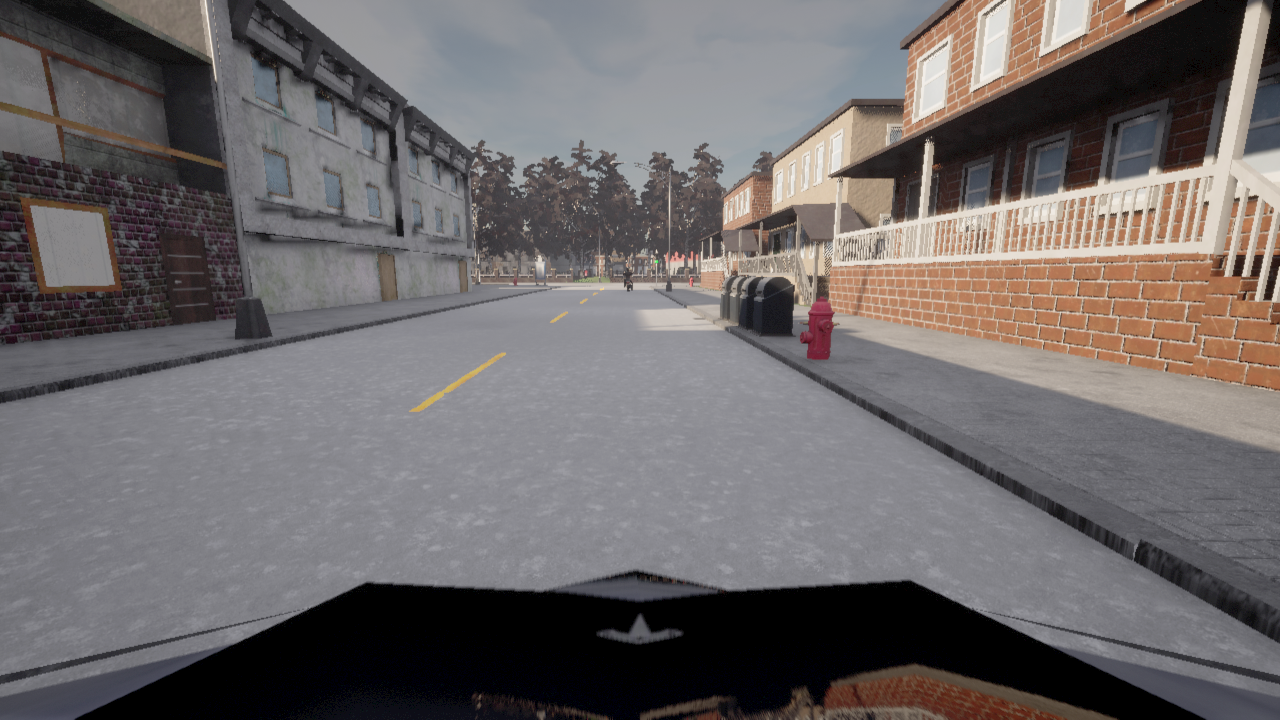cyclist: (0, 569, 1279, 719), (625, 278, 630, 290)
